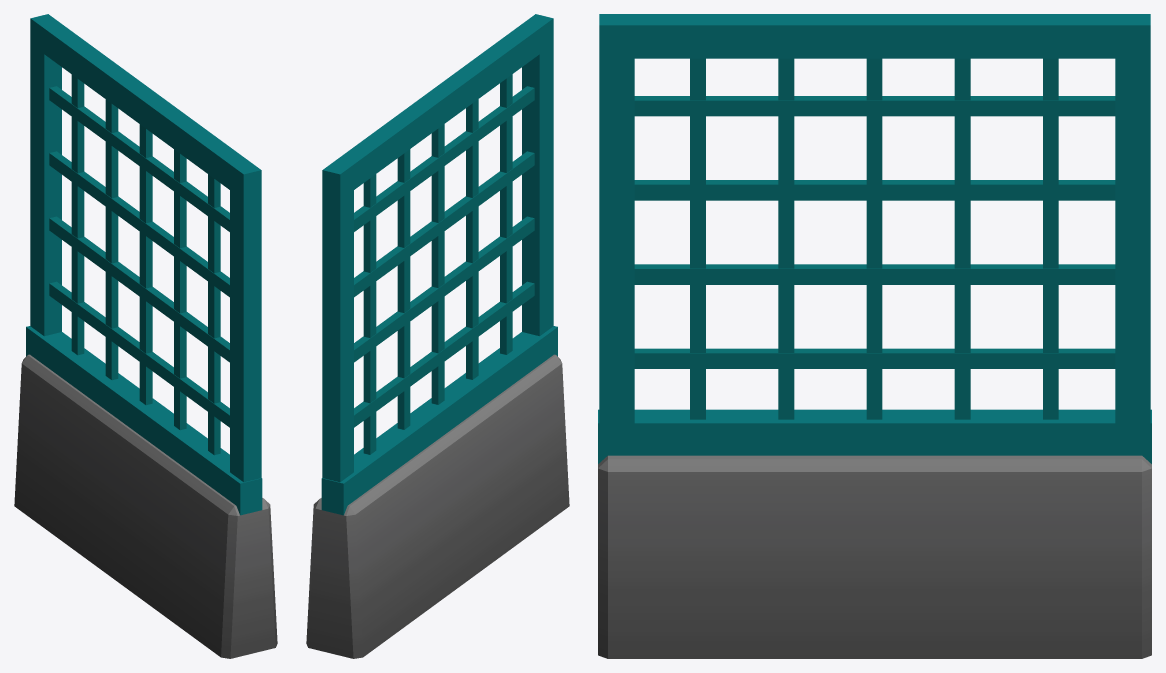
Rendered from Fence_1_C_5.fbx.
3 views of the same model, side by side, from view 1: azimuth 30°, elevation 25°; view 2: azimuth 150°, elevation 25°; view 3: azimuth 270°, elevation 25° (orthographic). The views are drawn at different scales.
Visible parts, largest first — view 1: Fence_1_C_5; view 2: Fence_1_C_5; view 3: Fence_1_C_5.
Part boxes in pixels (bbox=[...]): Fence_1_C_5: bbox=[14, 14, 277, 658]; Fence_1_C_5: bbox=[306, 14, 569, 658]; Fence_1_C_5: bbox=[598, 14, 1151, 658].
Size of the model in its own units: 30.52 by 248 by 200.
